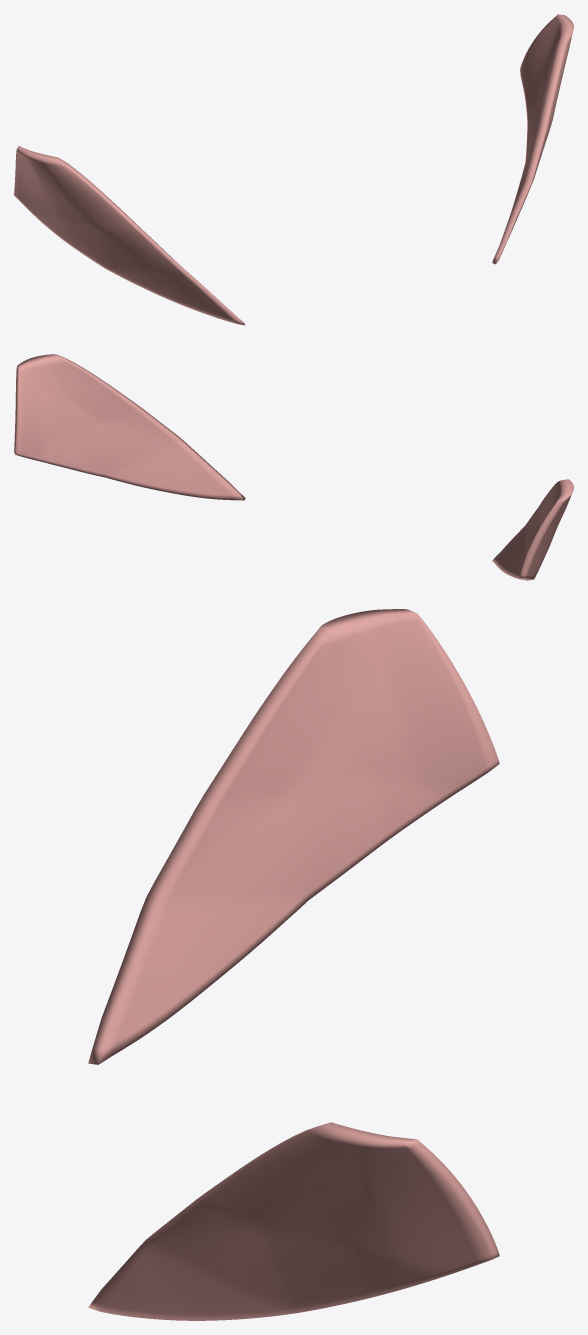
File: dao_lod1.glb
3 renders of one model, top to bottom at view 1: azimuth 30°, elevation 25°; view 2: azimuth 150°, elevation 25°; view 3: azimuth 270°, elevation 25°, orthographic. The views are drawn at different scales.
Parts seen in each view (by area): view 1: dao_R_lod1, dao_L_lod1; view 2: dao_L_lod1, dao_R_lod1; view 3: dao_R_lod1, dao_L_lod1.
Part boxes in pixels (x1,y1,x2,y2): dao_R_lod1: [14, 146, 245, 325]; dao_L_lod1: [492, 14, 573, 264]; dao_L_lod1: [14, 354, 245, 500]; dao_R_lod1: [492, 479, 573, 580]; dao_R_lod1: [88, 609, 499, 1064]; dao_L_lod1: [88, 1122, 499, 1320].
Size of the model in its own units: 0.0816 by 0.022 by 0.0266.
